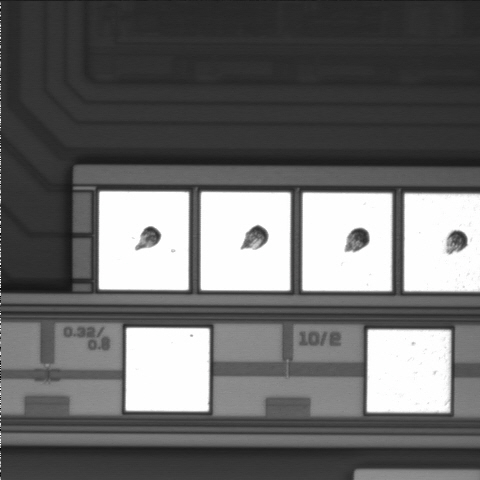pad: (99, 191, 189, 290), (201, 192, 291, 291), (302, 193, 392, 291), (126, 328, 210, 411), (367, 330, 451, 412)
